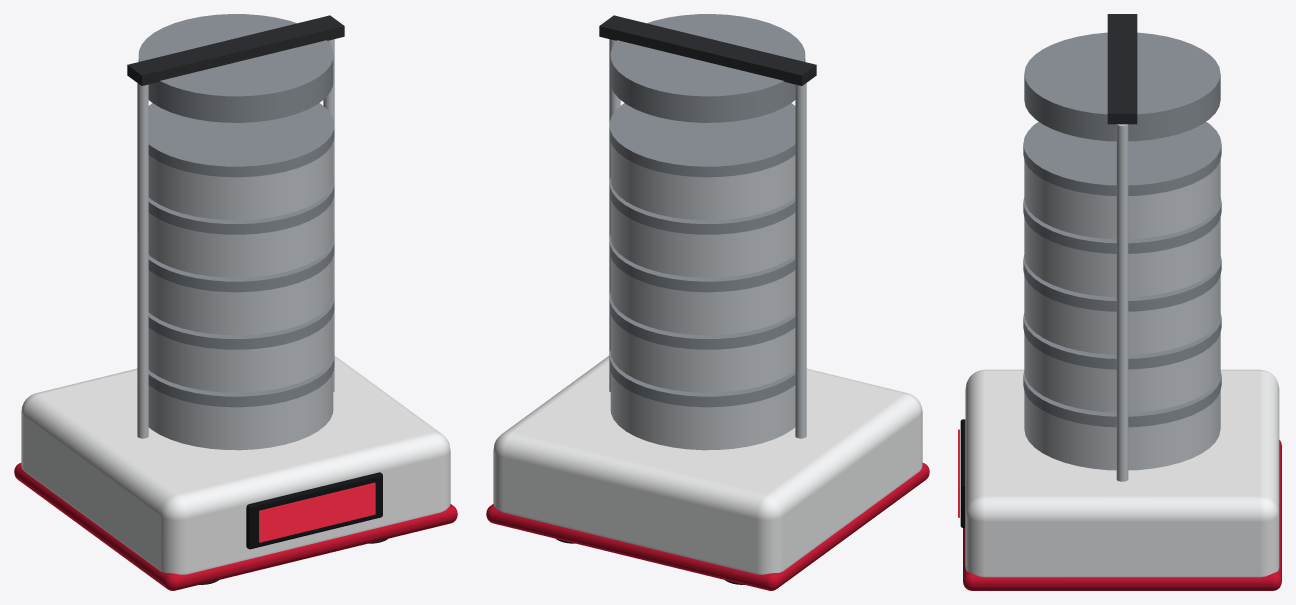
Rendered from retsch-as200.glb.
3 views of the same model, side by side, from view 1: azimuth 30°, elevation 25°; view 2: azimuth 150°, elevation 25°; view 3: azimuth 270°, elevation 25° (orthographic).
Bounding box in the file's own units: 0.345 × 0.536 × 0.33.
